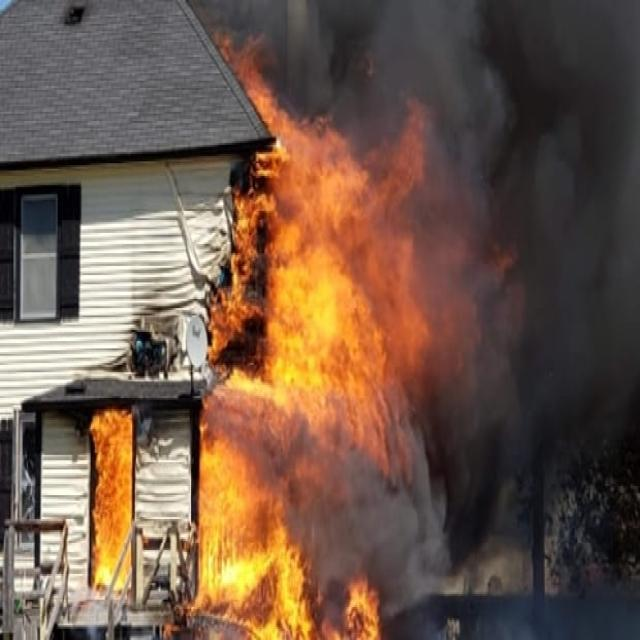Fire: (281, 217, 379, 428), (201, 450, 272, 640), (279, 129, 355, 213), (92, 416, 130, 576), (276, 551, 302, 637), (350, 586, 378, 638)
Smoke: (509, 102, 640, 409), (396, 2, 636, 95)
